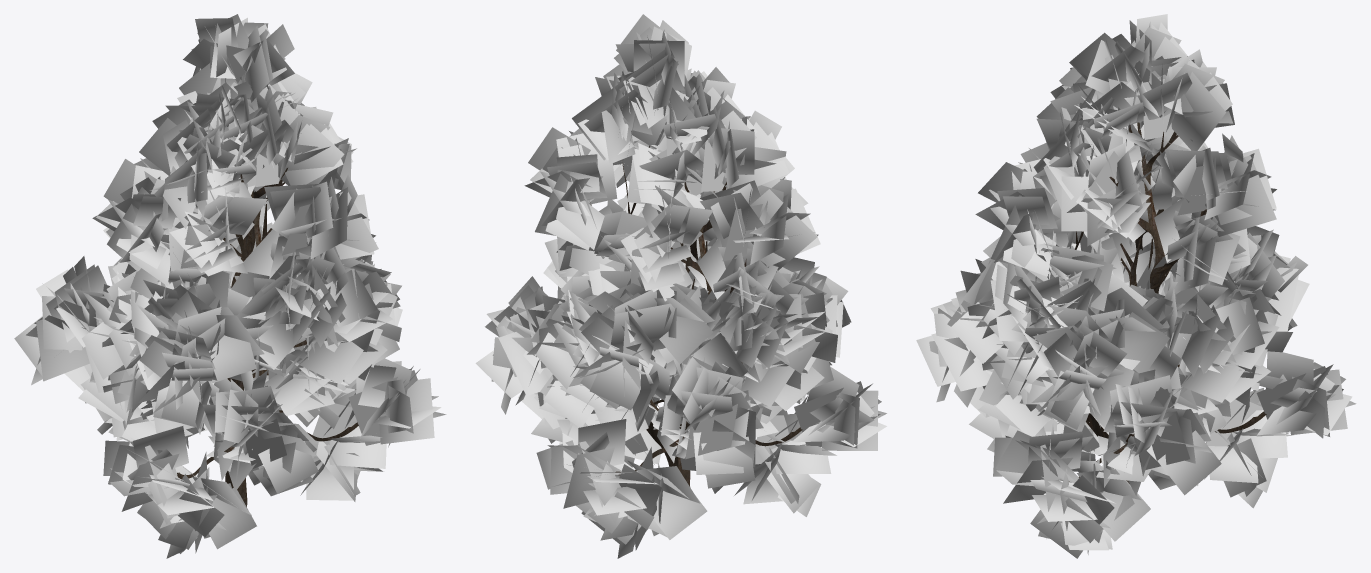
File: arbol.fbx
The picture shows the model from 3 angles, left to right: view 1: azimuth 30°, elevation 25°; view 2: azimuth 150°, elevation 25°; view 3: azimuth 270°, elevation 25°; orthographic projection. The views are drawn at different scales.
Parts seen in each view (by area): view 1: Bark.019; view 2: Bark.019; view 3: Bark.019.
Part boxes in pixels (box(x1,y1,x2,y2)): Bark.019: box(14, 14, 446, 558); Bark.019: box(475, 14, 886, 558); Bark.019: box(916, 14, 1356, 558).
Bounding box in the file's own units: 985 × 1366 × 1087.
Materials: 2 (1 with a texture image).
